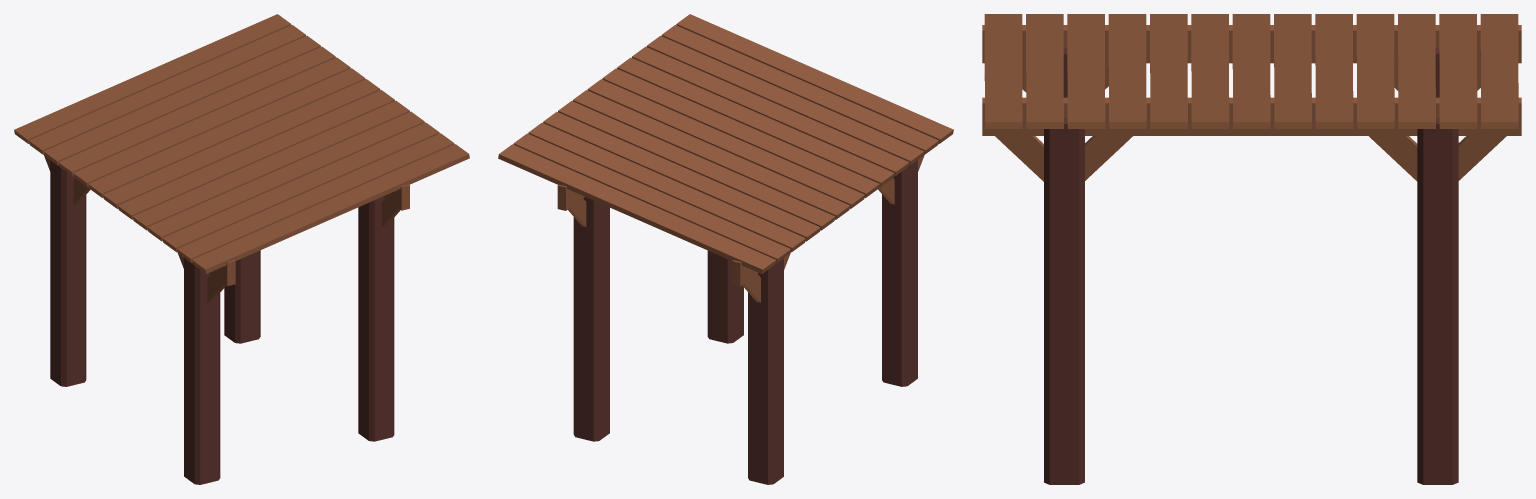
File: shelter.fbx
3 views of the same model, side by side, from view 1: azimuth 30°, elevation 25°; view 2: azimuth 150°, elevation 25°; view 3: azimuth 270°, elevation 25° (orthographic). The views are drawn at different scales.
Parts seen in each view (by area): view 1: roof_shelter, pillars_shelter; view 2: roof_shelter, pillars_shelter; view 3: roof_shelter, pillars_shelter.
Boxes of the visible parts, x1,y1,x2,y2 form: roof_shelter: (14,14,469,285); pillars_shelter: (44,154,400,484); roof_shelter: (498,14,953,286); pillars_shelter: (568,154,924,484); roof_shelter: (982,14,1521,135); pillars_shelter: (995,48,1506,484).
Bounding box in the file's own units: 149 × 154 × 188.
